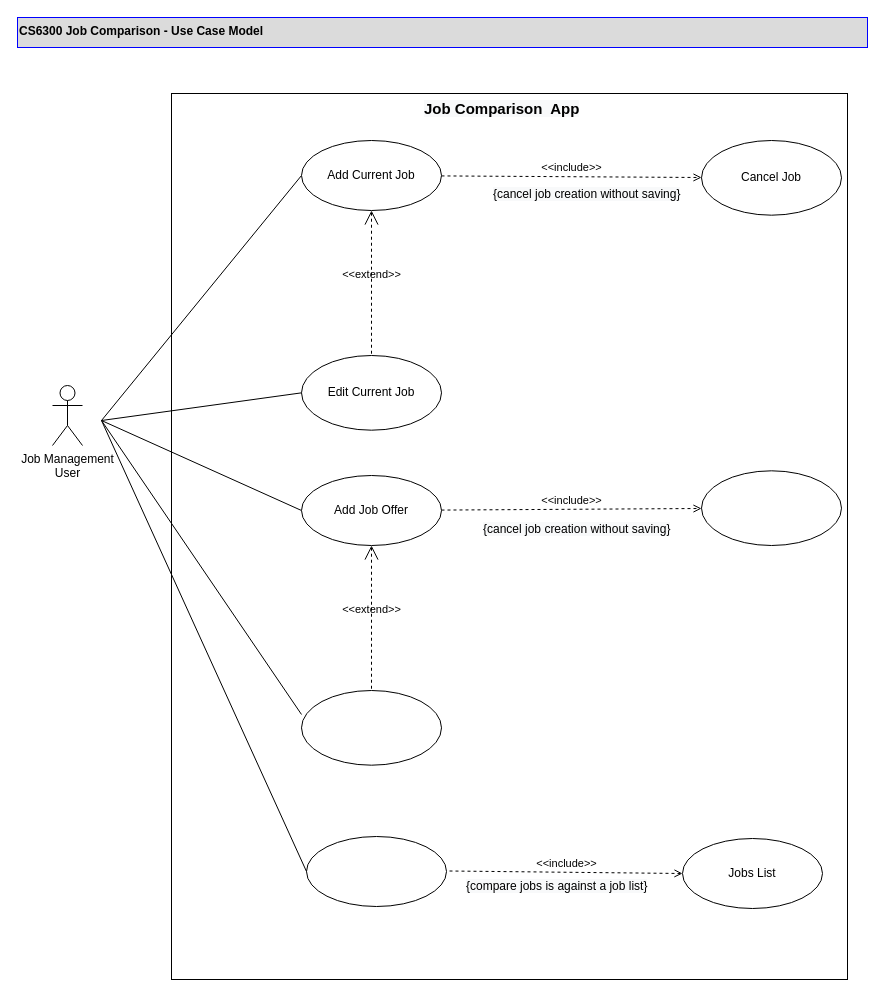
Image size: 885x997. Some labels were removed from this diagram. Here are the shapes that lost their labels. From the top down, the centre of each, then its label:
At (771,508): "Cancel Job Offer".
At (371,727): "Edit Job Offer".
At (376,871): "Compare Jobs".
